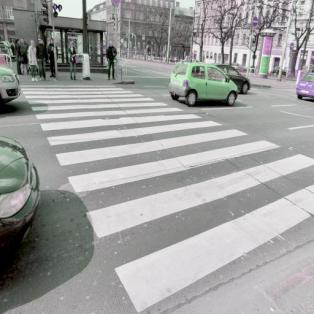Paso de Cebra: (53, 126, 286, 195), (22, 88, 143, 101)
